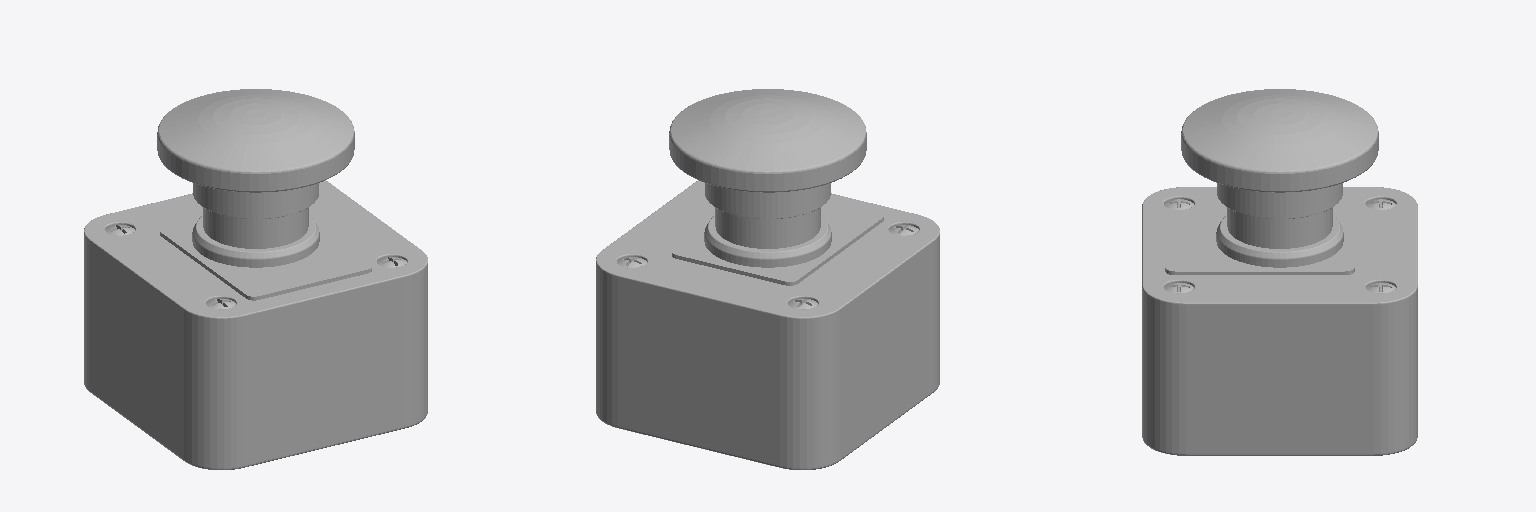
3 renders of one model, left to right at view 1: azimuth 30°, elevation 25°; view 2: azimuth 150°, elevation 25°; view 3: azimuth 270°, elevation 25°, orthographic.
Visible parts, largest first — view 1: textured; view 2: textured; view 3: textured.
Part boxes in pixels (x1,y1,x2,y2): textured: (84, 89, 427, 469); textured: (596, 89, 939, 469); textured: (1142, 89, 1417, 455).
Bounding box in the file's own units: 0.08 × 0.0912 × 0.08.